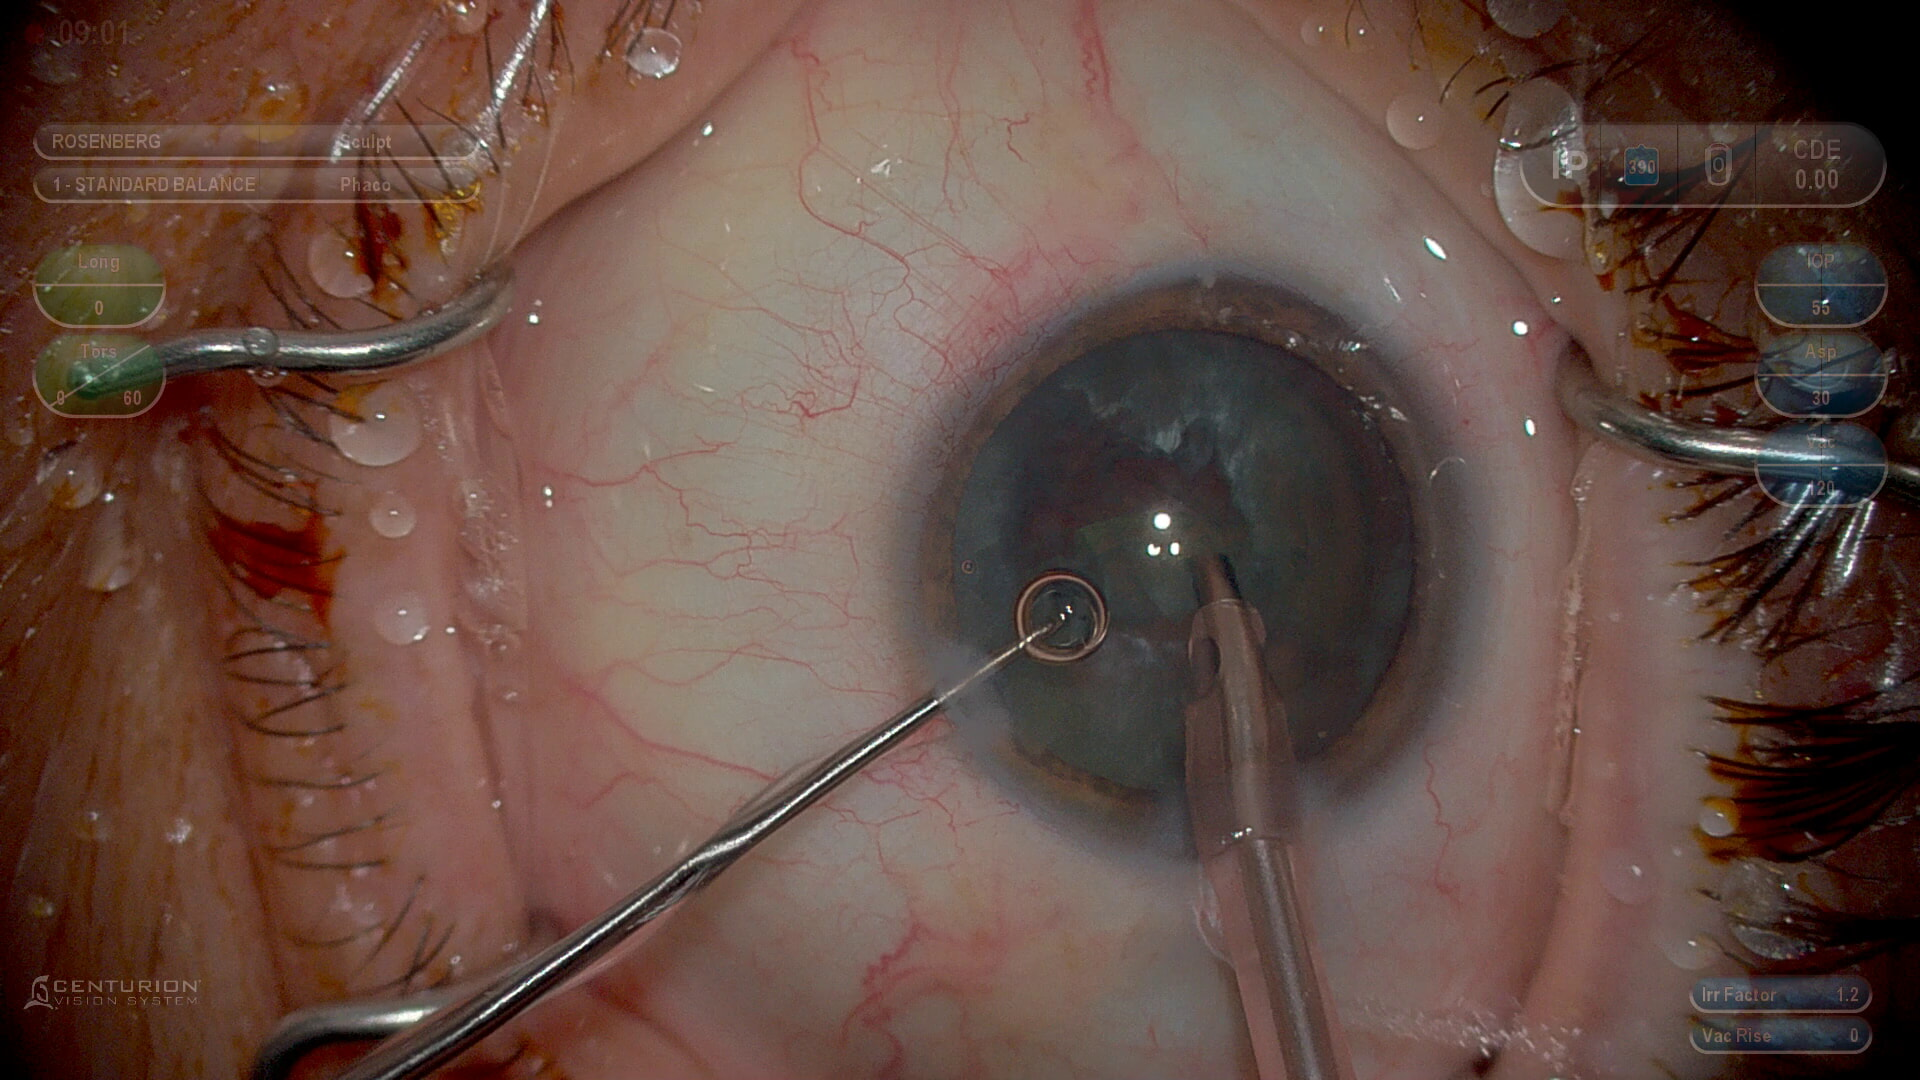iris: (918, 273, 1467, 856)
pupil: (947, 334, 1415, 797)
